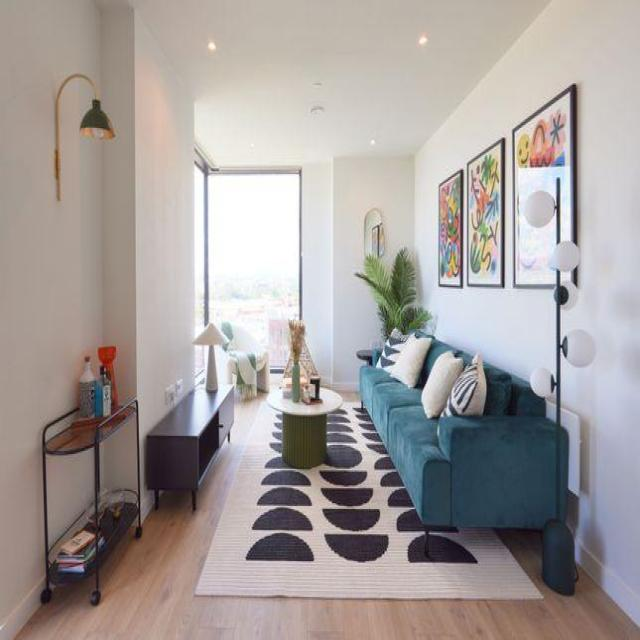Wall: (20, 401, 640, 639), (416, 0, 640, 623), (132, 1, 549, 166), (0, 0, 104, 637), (101, 6, 194, 438), (333, 157, 413, 386), (301, 159, 334, 382)
